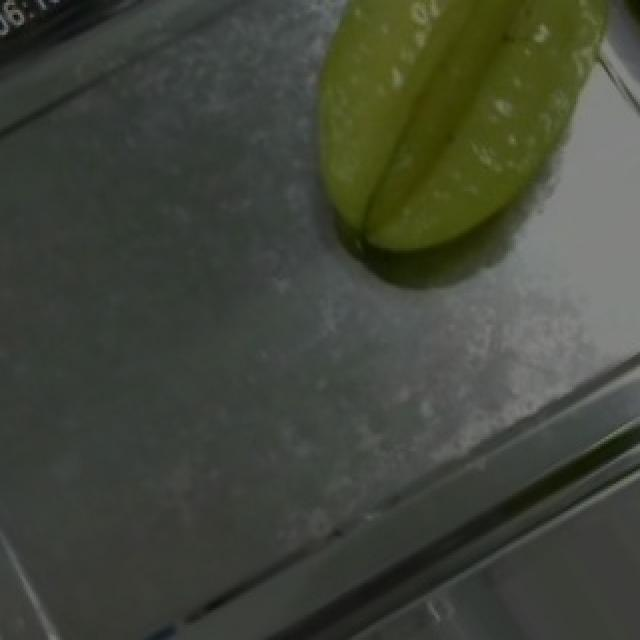fruit: (254, 0, 640, 305)
